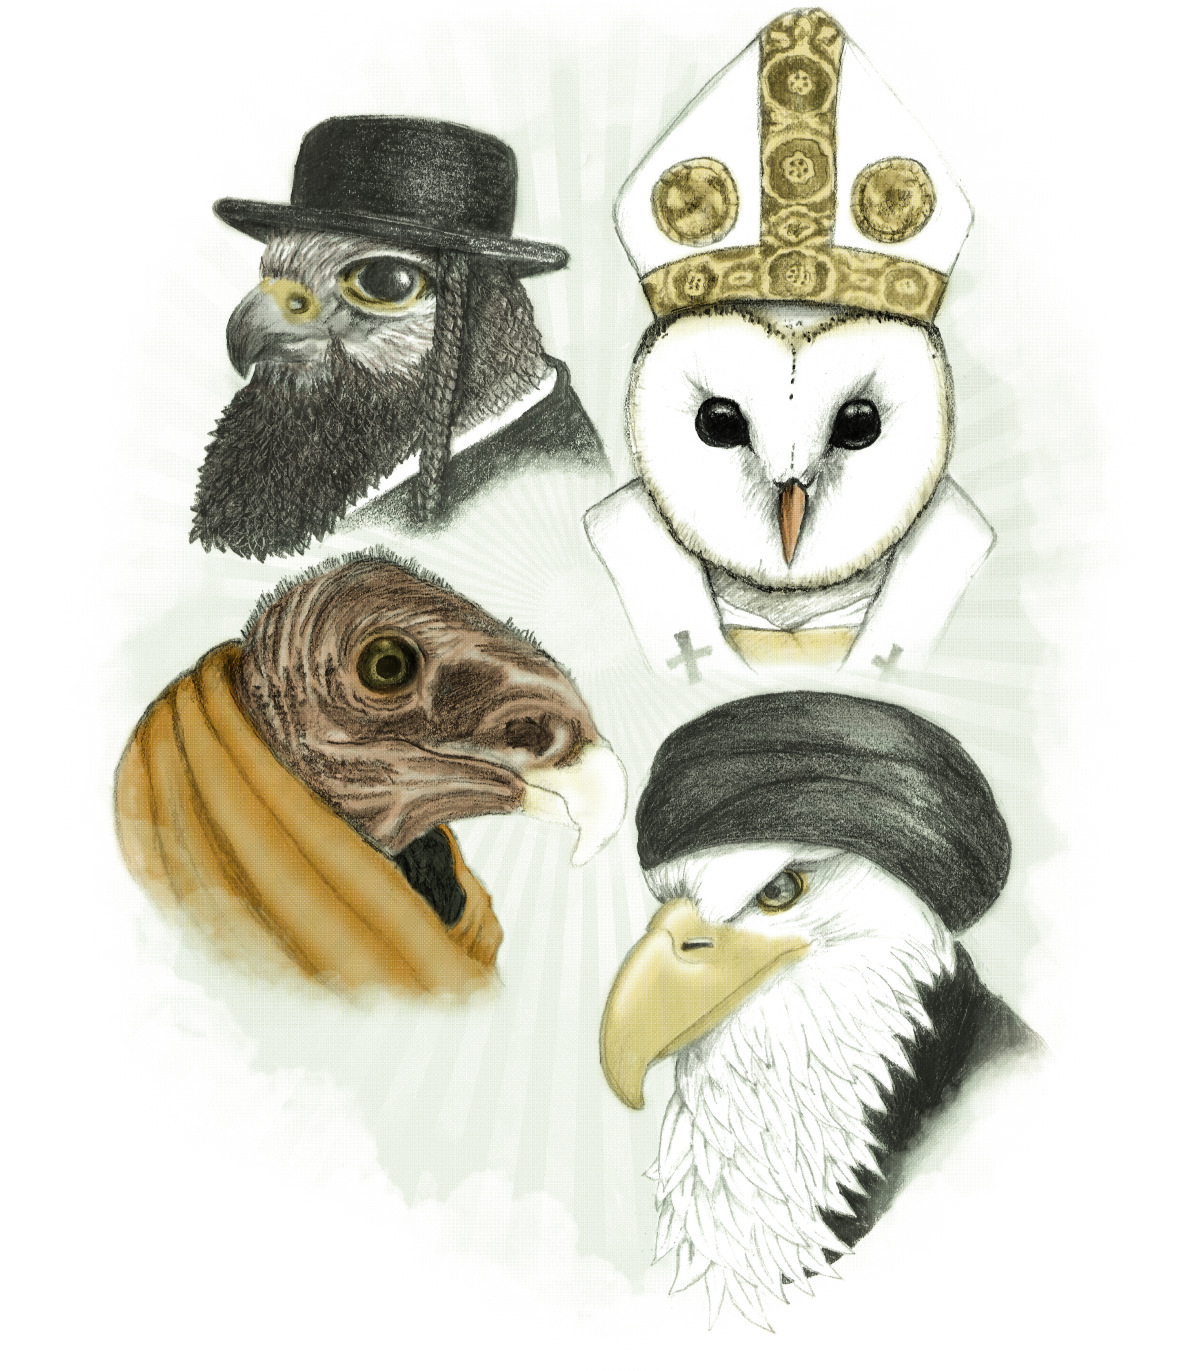design: (87, 3, 1080, 1359)
